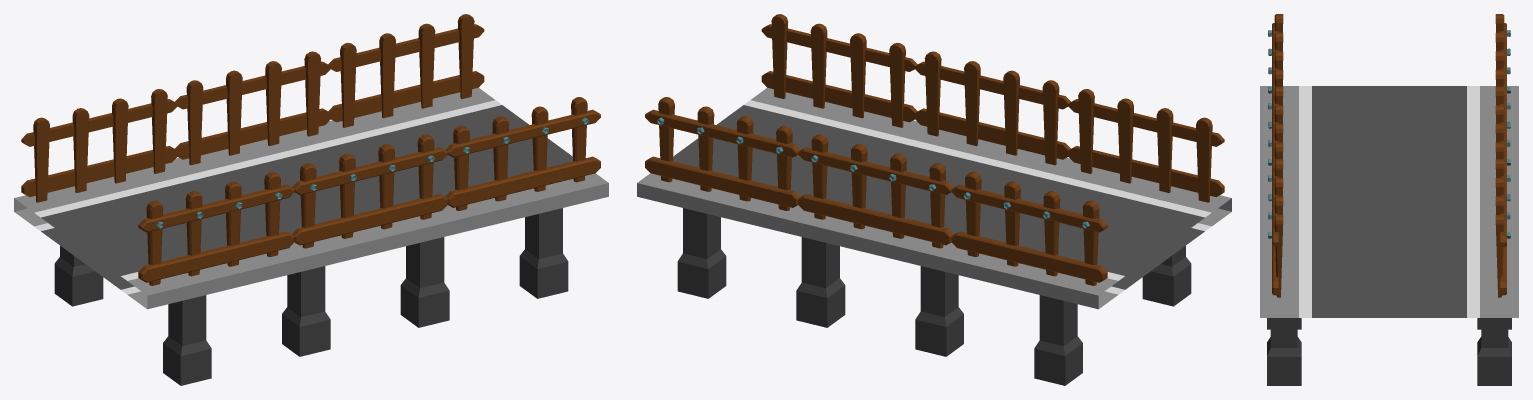
The model's file is Bridge-Little.fbx.
The picture shows the model from 3 angles, left to right: view 1: azimuth 30°, elevation 25°; view 2: azimuth 150°, elevation 25°; view 3: azimuth 270°, elevation 25°; orthographic projection. The views are drawn at different scales.
Parts seen in each view (by area): view 1: BridgeLittleWhitelines, BridgeLittle, BridgeLittleSidewalk; view 2: BridgeLittleWhitelines, BridgeLittle, BridgeLittleSidewalk; view 3: BridgeLittle, BridgeLittleWhitelines, BridgeLittleSidewalk.
Part boxes in pixels (box(x1,y1,x2,y2)): BridgeLittleWhitelines: box(21, 14, 600, 385); BridgeLittle: box(41, 105, 572, 289); BridgeLittleSidewalk: box(14, 87, 608, 309); BridgeLittleWhitelines: box(645, 14, 1224, 385); BridgeLittle: box(673, 105, 1204, 289); BridgeLittleSidewalk: box(637, 87, 1231, 309); BridgeLittle: box(1312, 86, 1466, 317); BridgeLittleWhitelines: box(1267, 14, 1511, 385); BridgeLittleSidewalk: box(1260, 86, 1518, 317).
Size of the model in its own units: 20 by 7.61 by 10.
